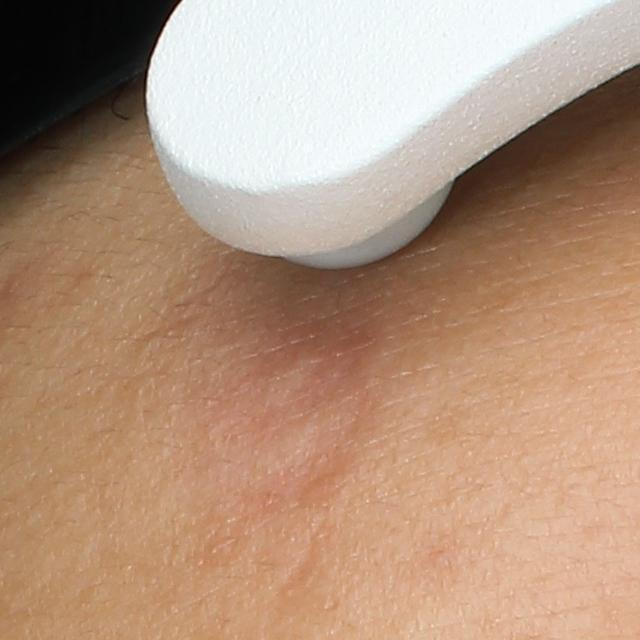atrophic_scar: (216, 347, 371, 451), (244, 428, 353, 506), (278, 541, 322, 594)
